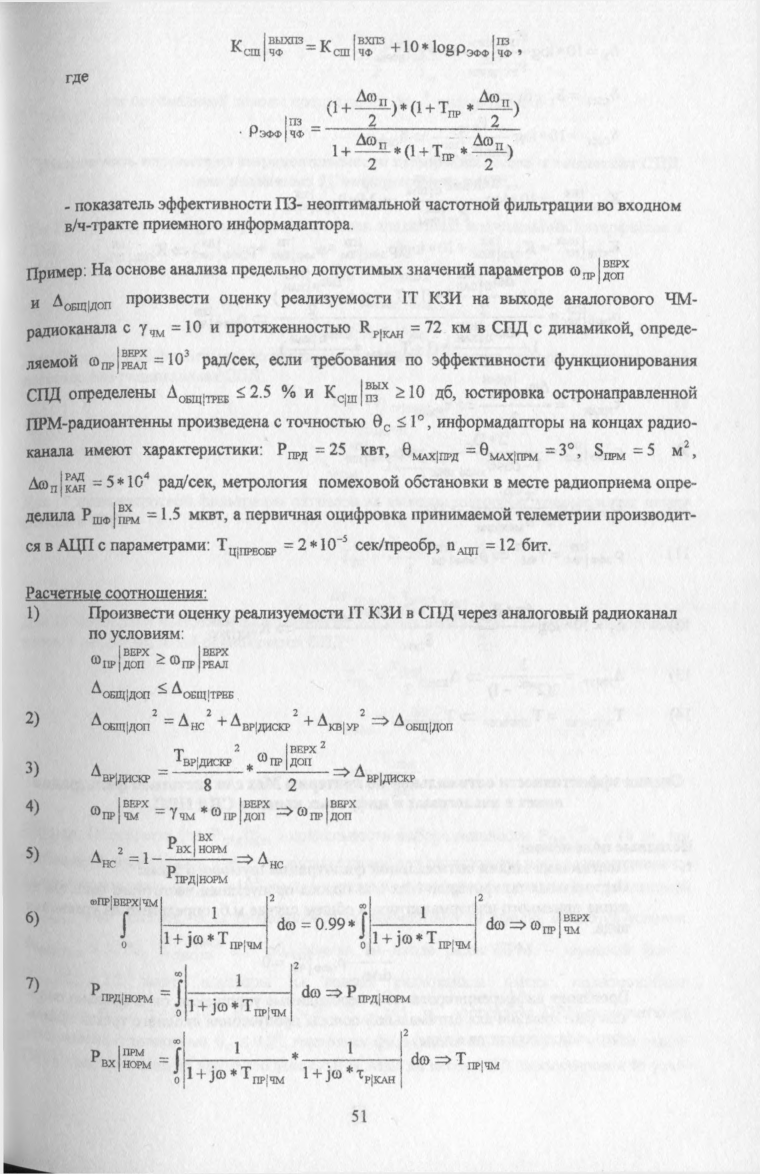K.сш.вх.пз.чф: (316, 30, 386, 59)
K.сш.выхпз.чф: (226, 28, 307, 63)
P.вх.вх.норм: (166, 833, 227, 854)
P.вх.прм.норм: (84, 1036, 156, 1075)
P.прд.норм: (84, 978, 157, 1011), (163, 865, 233, 889)
T.вр.дискр: (170, 744, 235, 770)
T.пр: (427, 140, 456, 165), (435, 97, 463, 122)
T.пр.чм: (211, 928, 263, 956), (239, 1061, 286, 1089), (242, 997, 286, 1023), (426, 930, 470, 955)
group: (79, 894, 508, 961), (228, 81, 526, 170), (81, 1029, 436, 1096), (215, 19, 530, 74), (77, 973, 321, 1028), (87, 747, 343, 781), (82, 837, 262, 882), (78, 712, 384, 733), (82, 797, 296, 824)
Δ.вр.дискр: (86, 758, 151, 787), (226, 709, 293, 733)
Δ.кв.ур: (314, 709, 359, 732)
Δ.нс: (85, 847, 118, 872), (179, 711, 205, 737)
Δ.общ.доп: (87, 711, 153, 737)
Δω.п: (475, 85, 512, 109), (349, 132, 391, 151), (357, 85, 390, 107), (466, 132, 506, 150)
γ.чм: (166, 798, 196, 825)
ρ.эфф.пз.чф: (453, 30, 516, 65), (240, 112, 307, 143)
τ.р.кан: (354, 1063, 398, 1092)
ω.пр.верх.доп: (208, 793, 274, 827), (254, 737, 317, 768)
ω.пр.верх.чм: (87, 797, 154, 826), (86, 891, 160, 909)
